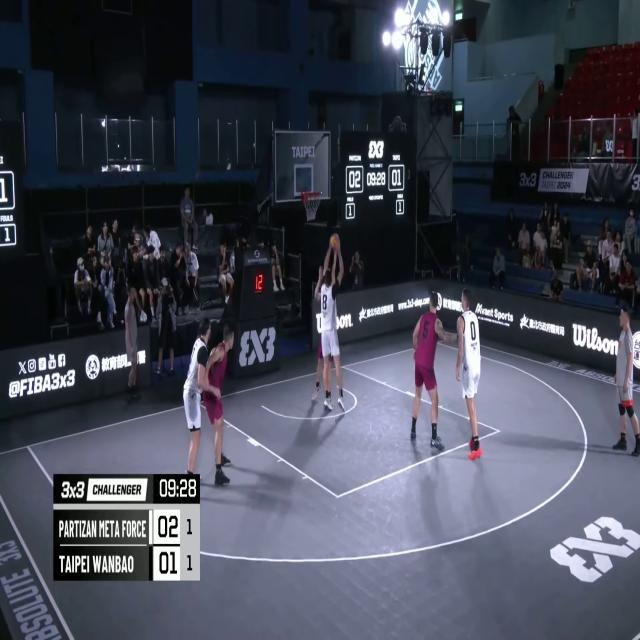ball: (327, 231, 343, 254)
hoop: (301, 187, 322, 225)
player: (411, 288, 448, 454), (184, 316, 220, 482), (310, 233, 342, 418), (453, 286, 485, 464), (207, 321, 239, 485), (314, 240, 344, 413)
